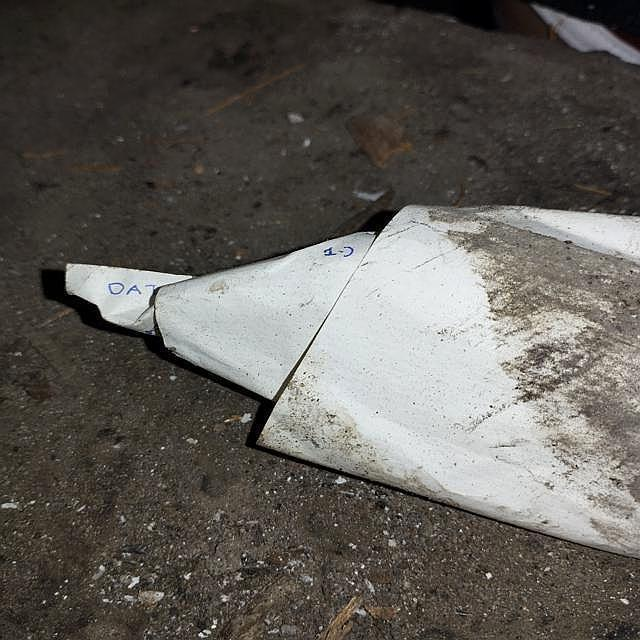Biodegradable: (71, 203, 640, 565)
